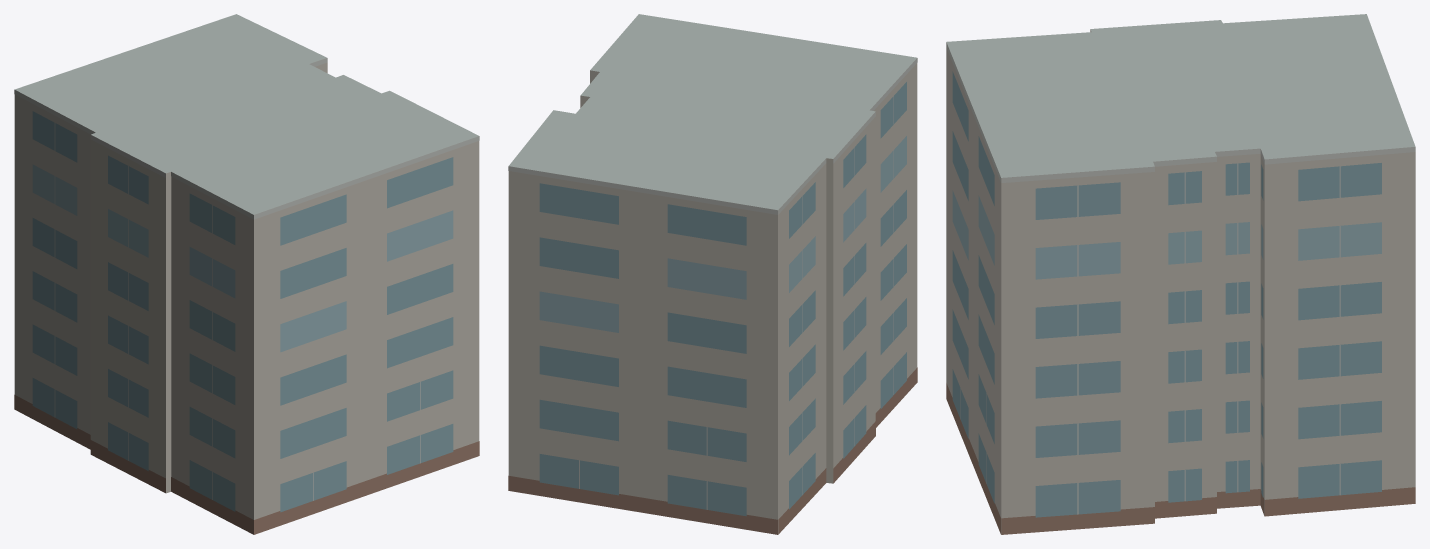
File: survey-upis-33039210.glb
3 views of the same model, side by side, from view 1: azimuth 30°, elevation 25°; view 2: azimuth 150°, elevation 25°; view 3: azimuth 270°, elevation 25° (orthographic). The views are drawn at different scales.
Visible parts, largest first — view 1: survey-upis-33039210.tmp; view 2: survey-upis-33039210.tmp; view 3: survey-upis-33039210.tmp.
Boxes of the visible parts, bbox=[...] form: survey-upis-33039210.tmp: bbox=[14, 14, 479, 534]; survey-upis-33039210.tmp: bbox=[508, 14, 917, 534]; survey-upis-33039210.tmp: bbox=[946, 14, 1415, 534].
Bounding box in the file's own units: 16.36 × 16.6 × 19.79.
